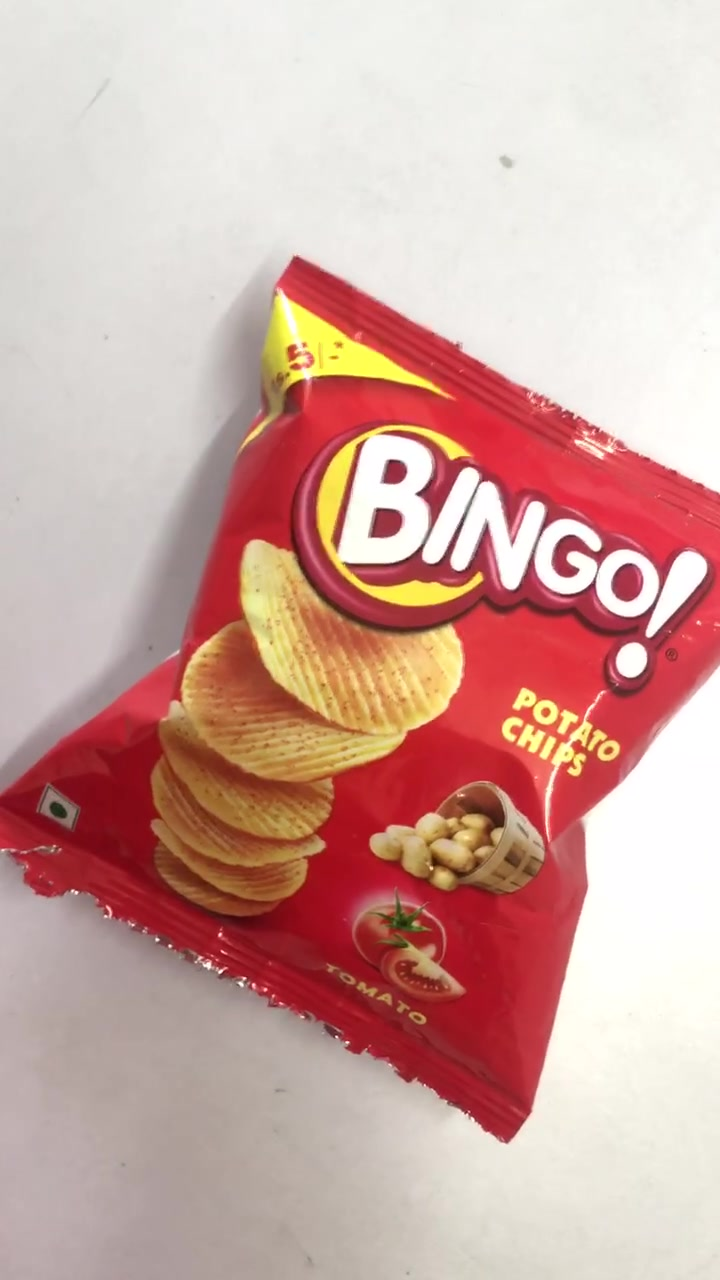Bingo: (1, 266, 720, 1125)
